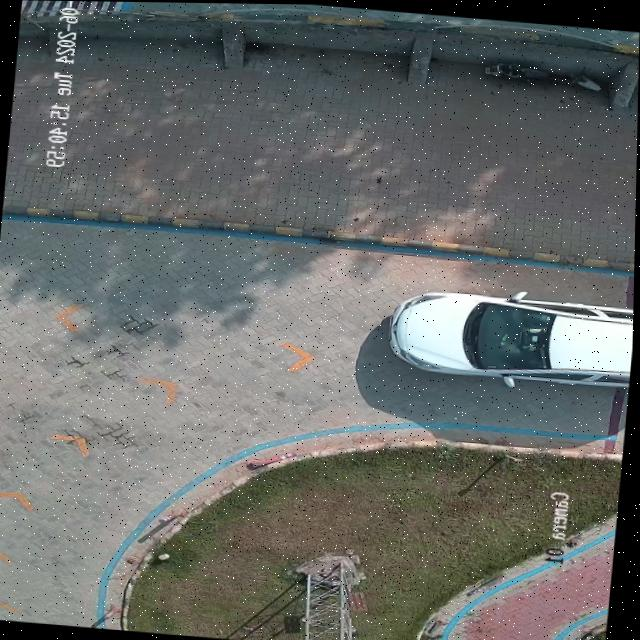car: (393, 289, 635, 384)
